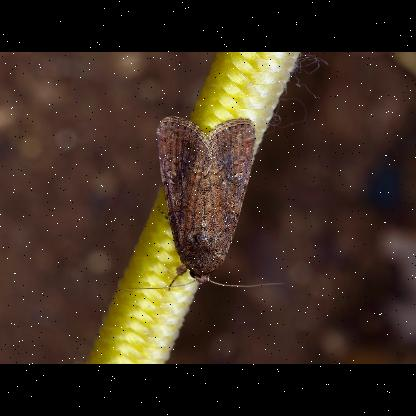Fall Armyworm Moth: (117, 113, 289, 294)
